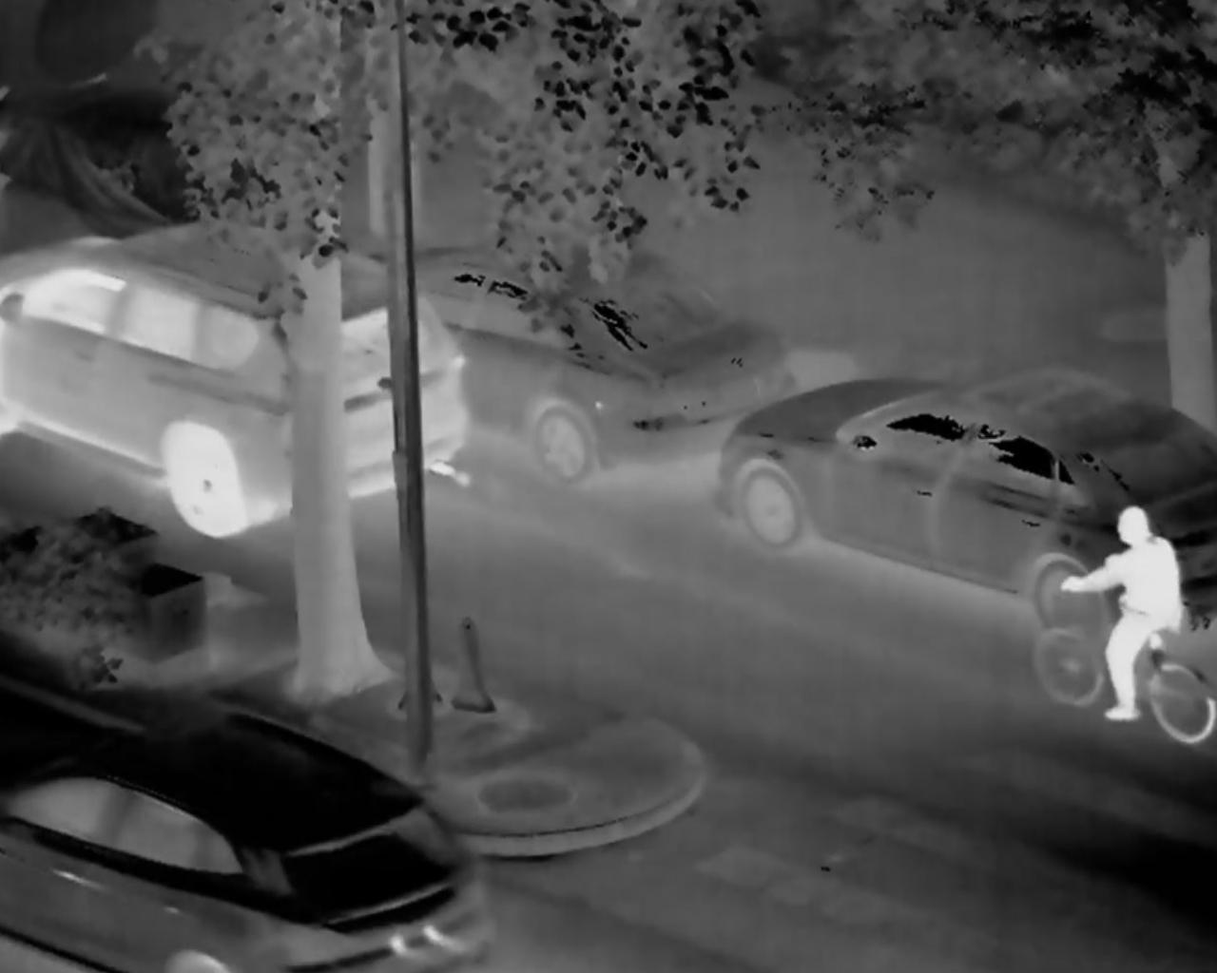person: (1057, 493, 1208, 751)
